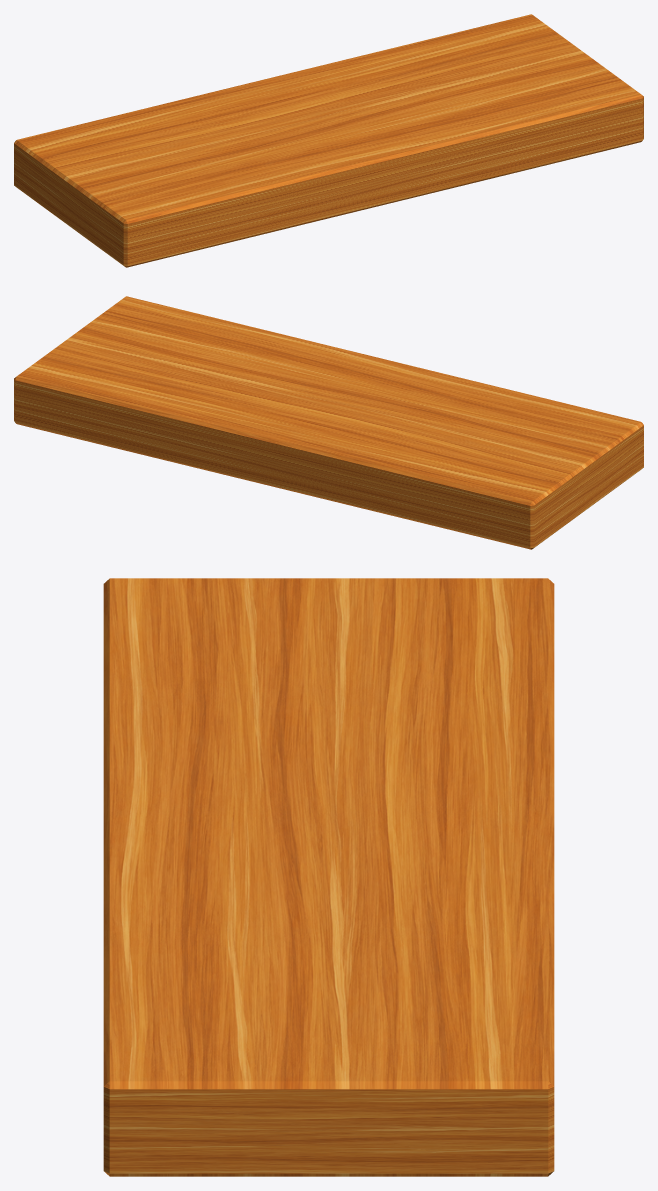
The model's file is palm_plank-tVf9Wazv.glb.
The picture shows the model from 3 angles, top to bottom: view 1: azimuth 30°, elevation 25°; view 2: azimuth 150°, elevation 25°; view 3: azimuth 270°, elevation 25°; orthographic projection. The views are drawn at different scales.
Visible parts, largest first — view 1: HI_palm_plank; view 2: HI_palm_plank; view 3: HI_palm_plank.
Boxes of the visible parts, x1,y1,x2,y2 form: HI_palm_plank: (14,14,643,267); HI_palm_plank: (14,296,643,549); HI_palm_plank: (103,578,554,1176).
Bounding box in the file's own units: 1.6 × 0.14 × 0.6.
Materials: 1 (1 with a texture image).
